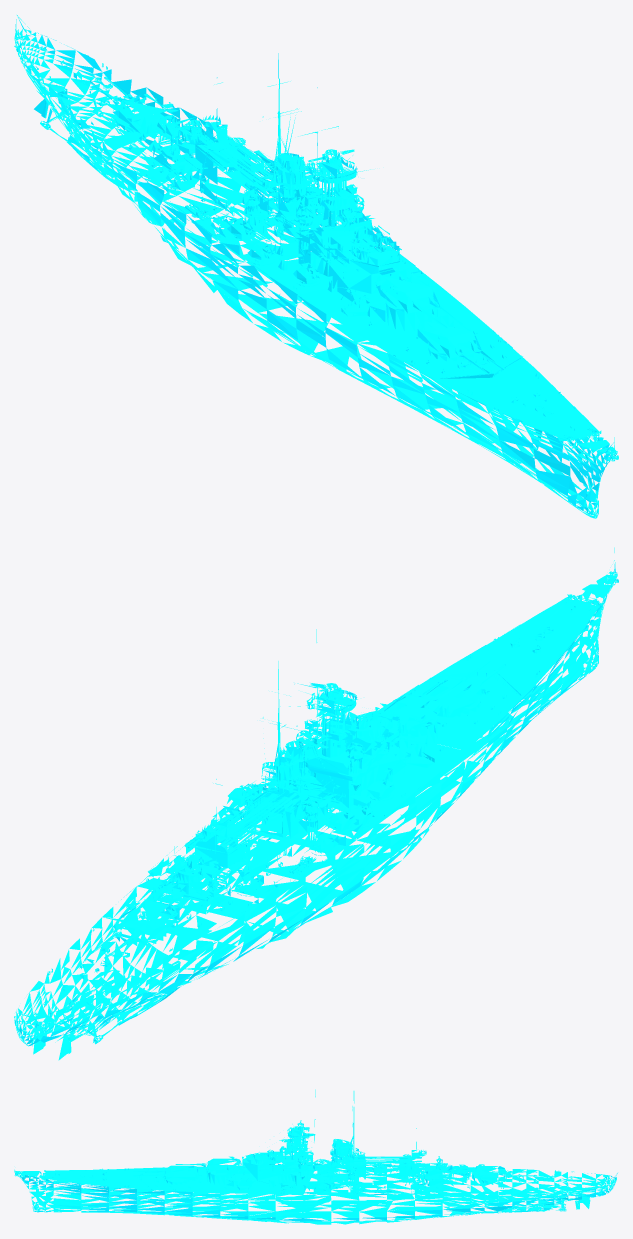
Rendered from PGSB107.glb.
3 renders of one model, top to bottom at view 1: azimuth 30°, elevation 25°; view 2: azimuth 150°, elevation 25°; view 3: azimuth 270°, elevation 25°, orthographic. The views are drawn at different scales.
Parts seen in each view (by area): view 1: hull_mid, hull_bow, hull_stern, main_battery, secondary_battery, superstructure; view 2: hull_mid, hull_bow, hull_stern, main_battery, secondary_battery, superstructure; view 3: hull_mid, hull_bow, hull_stern, main_battery, secondary_battery, superstructure.
Part boxes in pixels (<box>): hull_mid: <box>113,53,465,388</box>; hull_bow: <box>357,307,618,518</box>; hull_stern: <box>14,15,213,201</box>; main_battery: <box>89,76,505,374</box>; secondary_battery: <box>157,115,386,283</box>; superstructure: <box>171,119,371,238</box>; hull_mid: <box>113,629,465,981</box>; hull_bow: <box>368,547,618,804</box>; hull_stern: <box>14,907,213,1060</box>; main_battery: <box>89,660,505,958</box>; secondary_battery: <box>157,778,394,904</box>; superstructure: <box>174,683,377,868</box>; hull_mid: <box>206,1089,477,1224</box>; hull_bow: <box>14,1166,220,1218</box>; hull_stern: <box>470,1167,617,1214</box>; main_battery: <box>133,1156,537,1182</box>; secondary_battery: <box>278,1155,471,1192</box>; superstructure: <box>267,1120,442,1173</box>.
Bounding box in the file's own units: 2 × 3.65 × 16.38.
